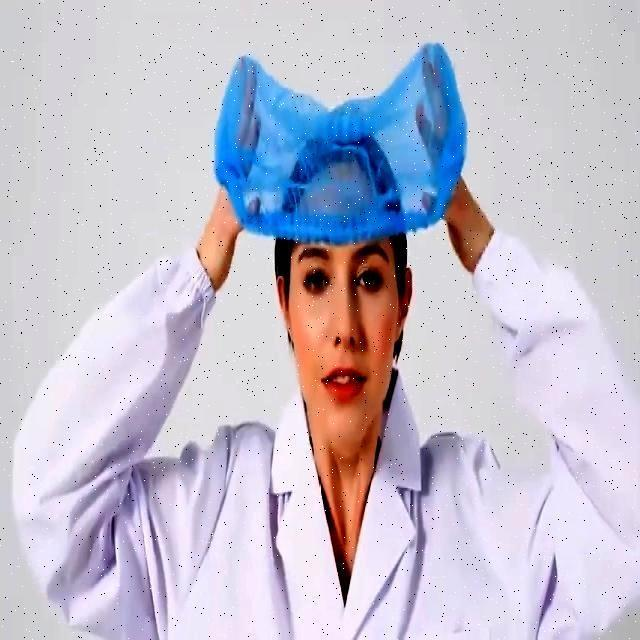gloves: (263, 73, 434, 237)
no_hairnet: (306, 323, 379, 413)
